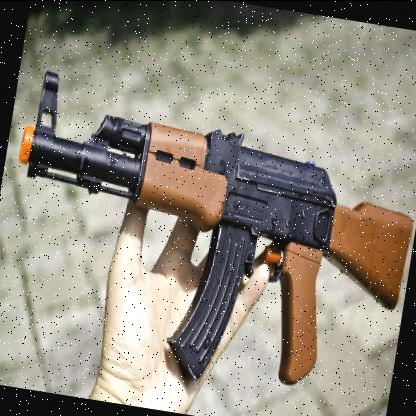rifle: (0, 46, 416, 411)
